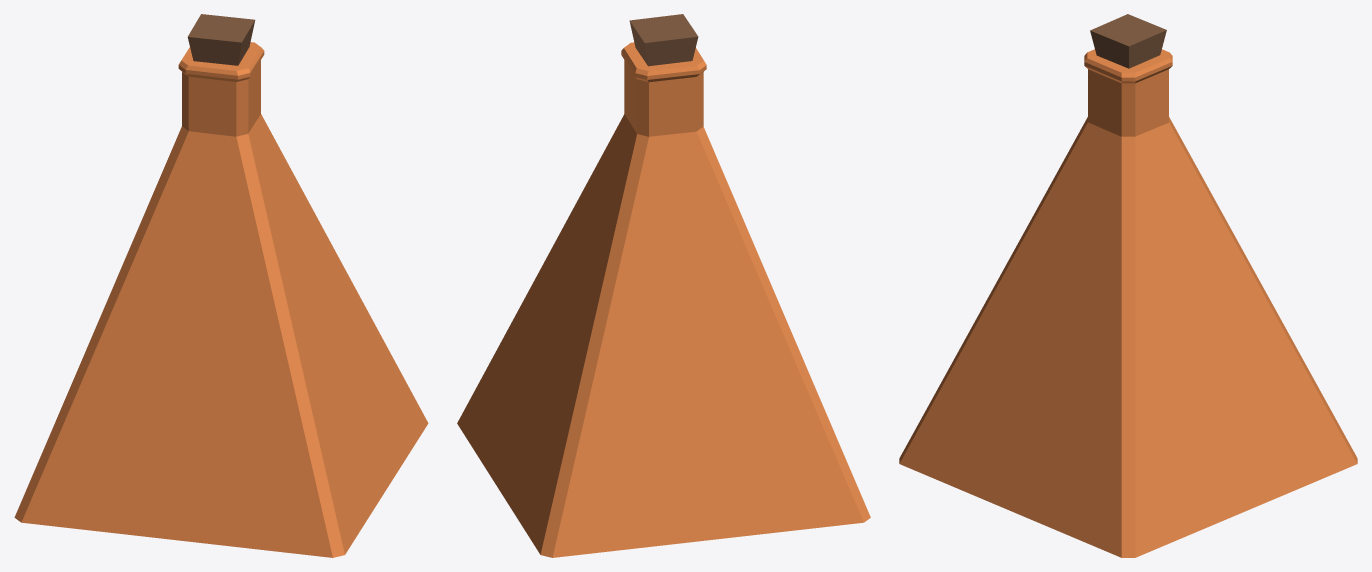
The model's file is Potion_04_Orange.fbx.
3 renders of one model, left to right at view 1: azimuth 30°, elevation 25°; view 2: azimuth 150°, elevation 25°; view 3: azimuth 270°, elevation 25°, orthographic. The views are drawn at different scales.
Visible parts, largest first — view 1: Cone.006, Cube.010, Cube.011; view 2: Cone.006, Cube.010, Cube.011; view 3: Cone.006, Cube.010, Cube.011.
Part boxes in pixels (<box>): Cone.006: <box>14,114,428,557</box>; Cube.010: <box>178,42,264,136</box>; Cube.011: <box>187,14,255,65</box>; Cone.006: <box>457,114,870,557</box>; Cube.010: <box>621,42,706,136</box>; Cube.011: <box>629,14,698,66</box>; Cone.006: <box>899,117,1357,557</box>; Cube.010: <box>1084,49,1172,136</box>; Cube.011: <box>1090,14,1166,68</box>.
Bounding box in the file's own units: 31.08 × 32.26 × 31.08.
